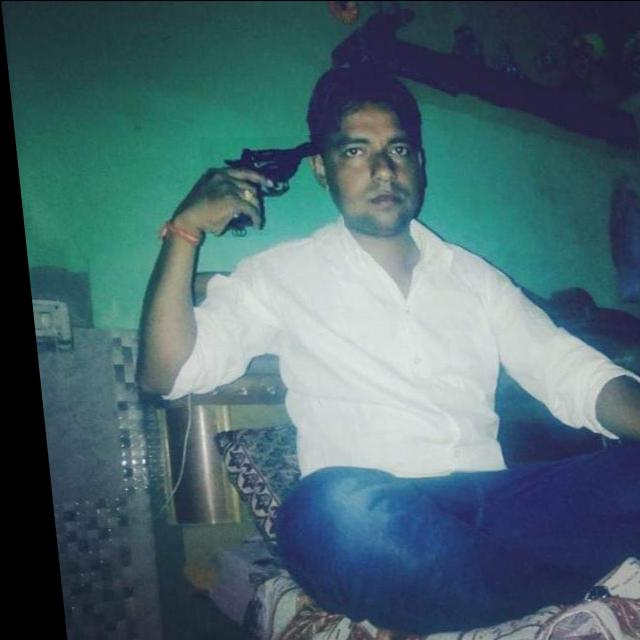handgun: (195, 134, 338, 236)
